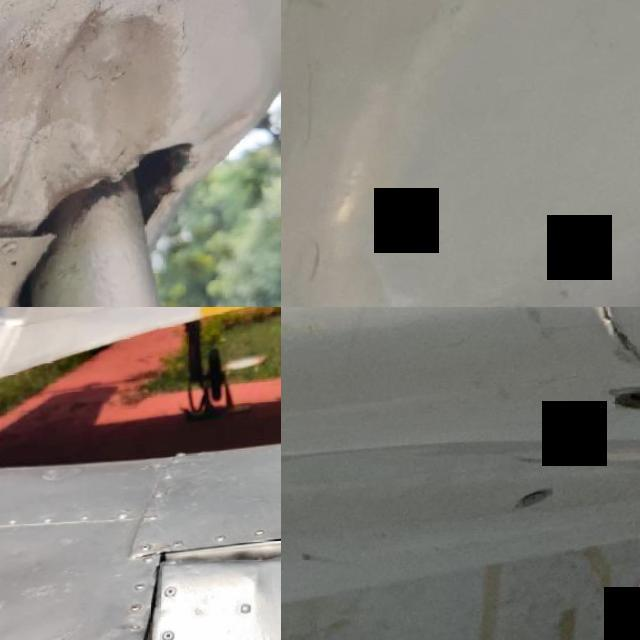Dent: (0, 0, 209, 254), (184, 102, 268, 174), (243, 547, 281, 640)
Missing_Fastener: (616, 388, 640, 423)
